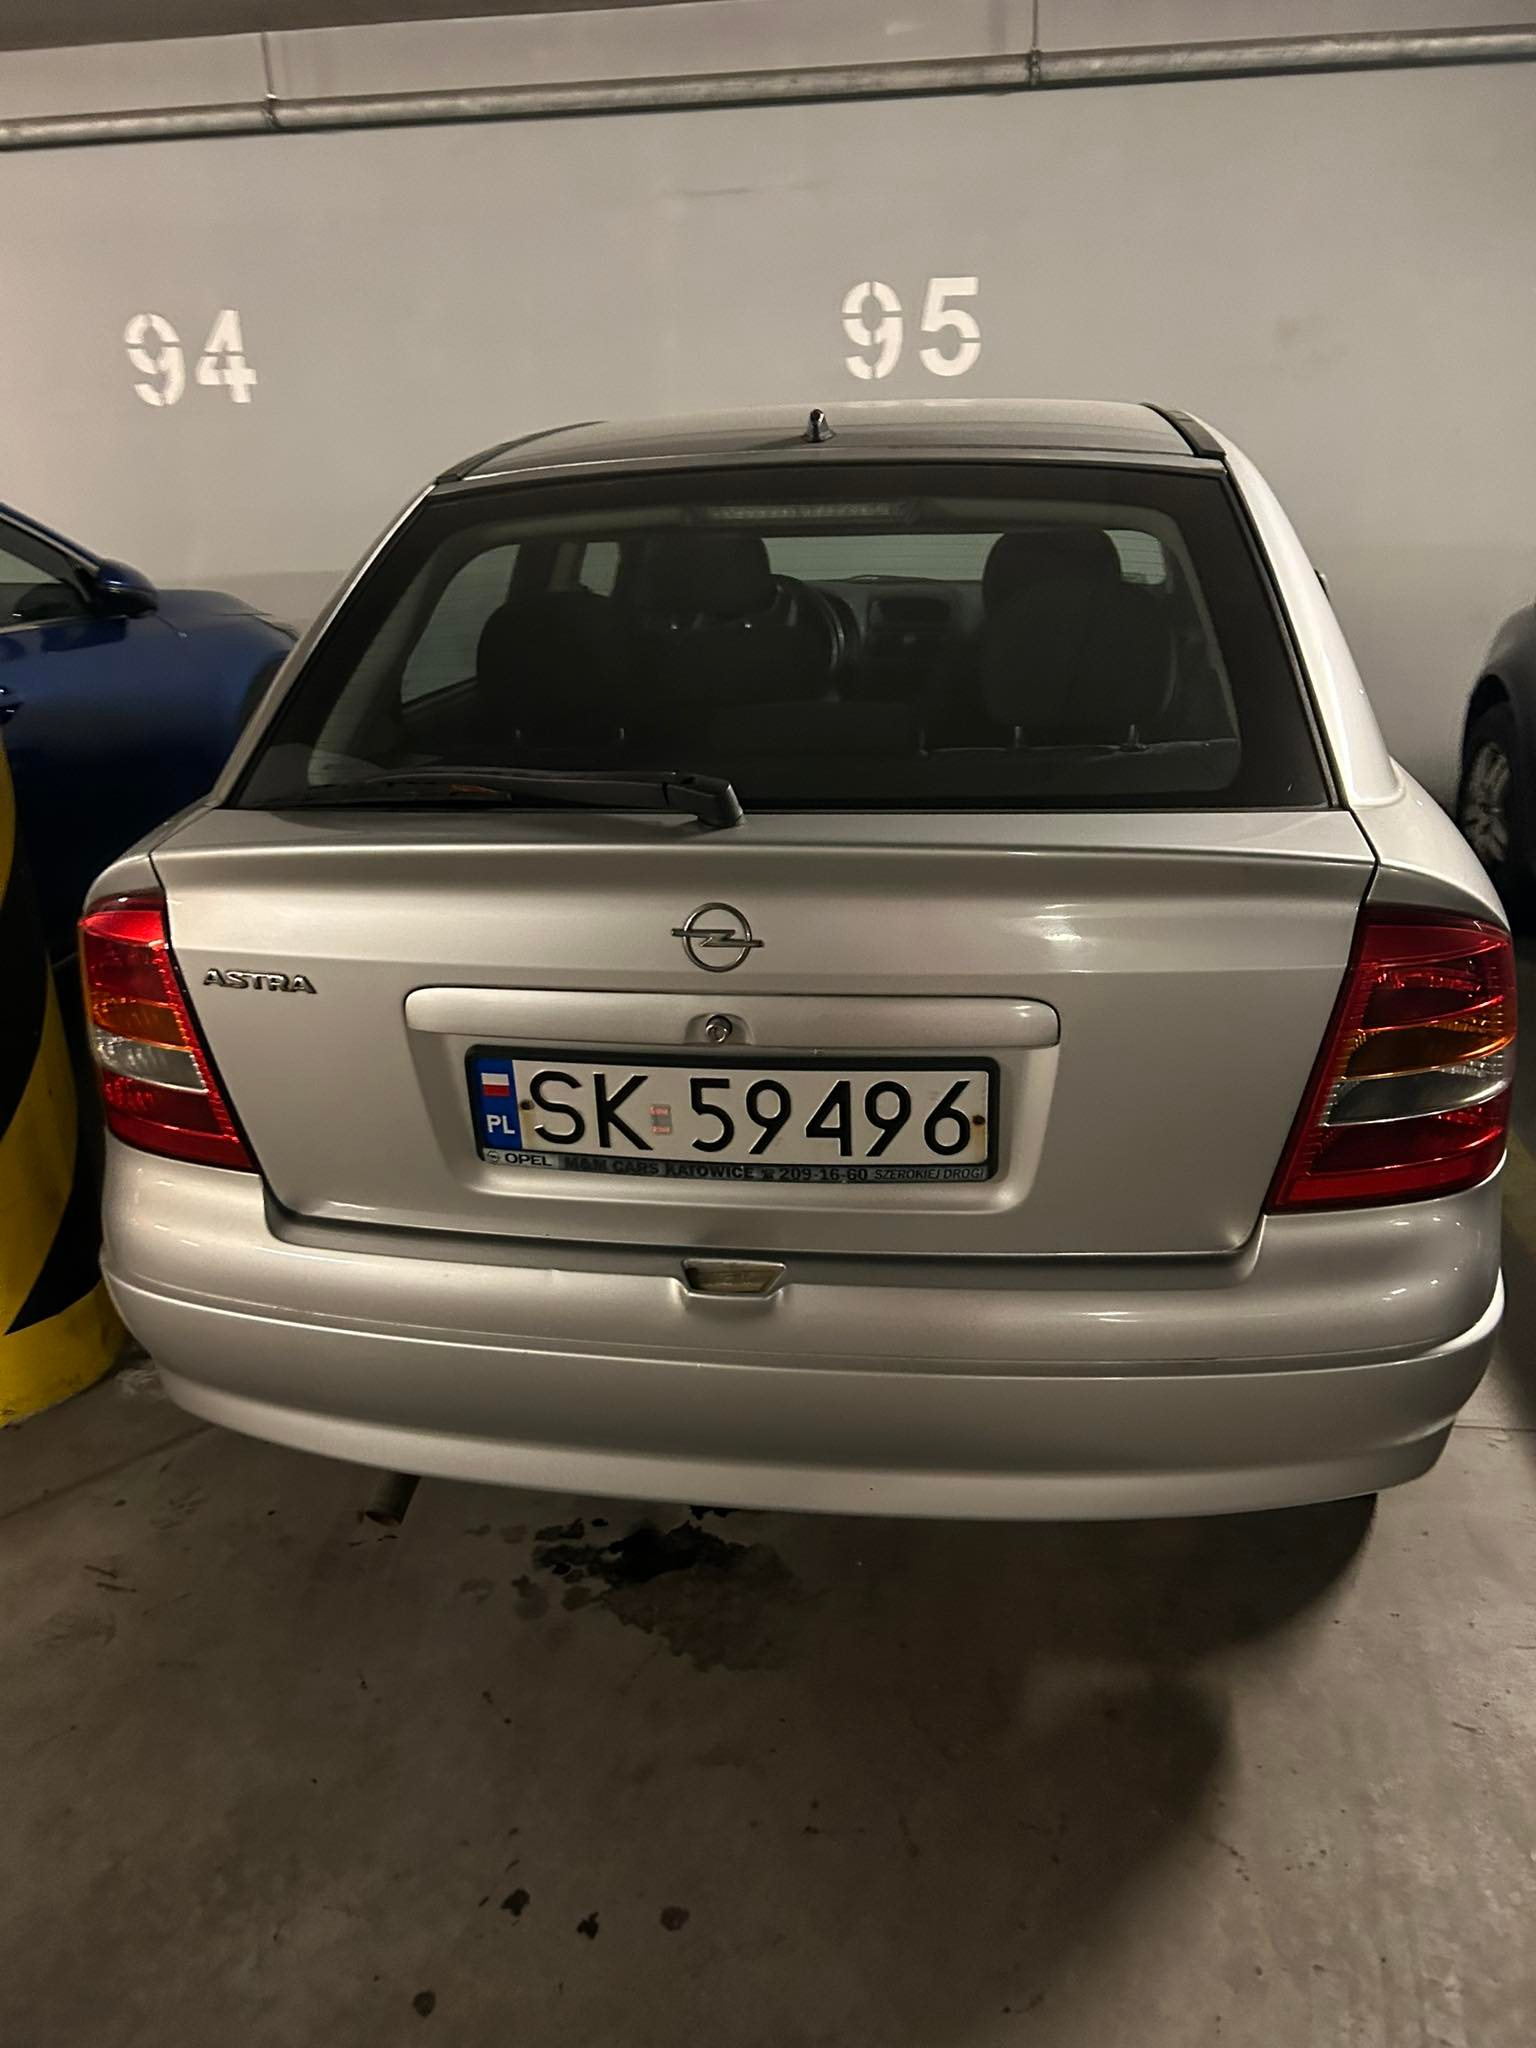number_plate: (474, 1043, 1012, 1183)
